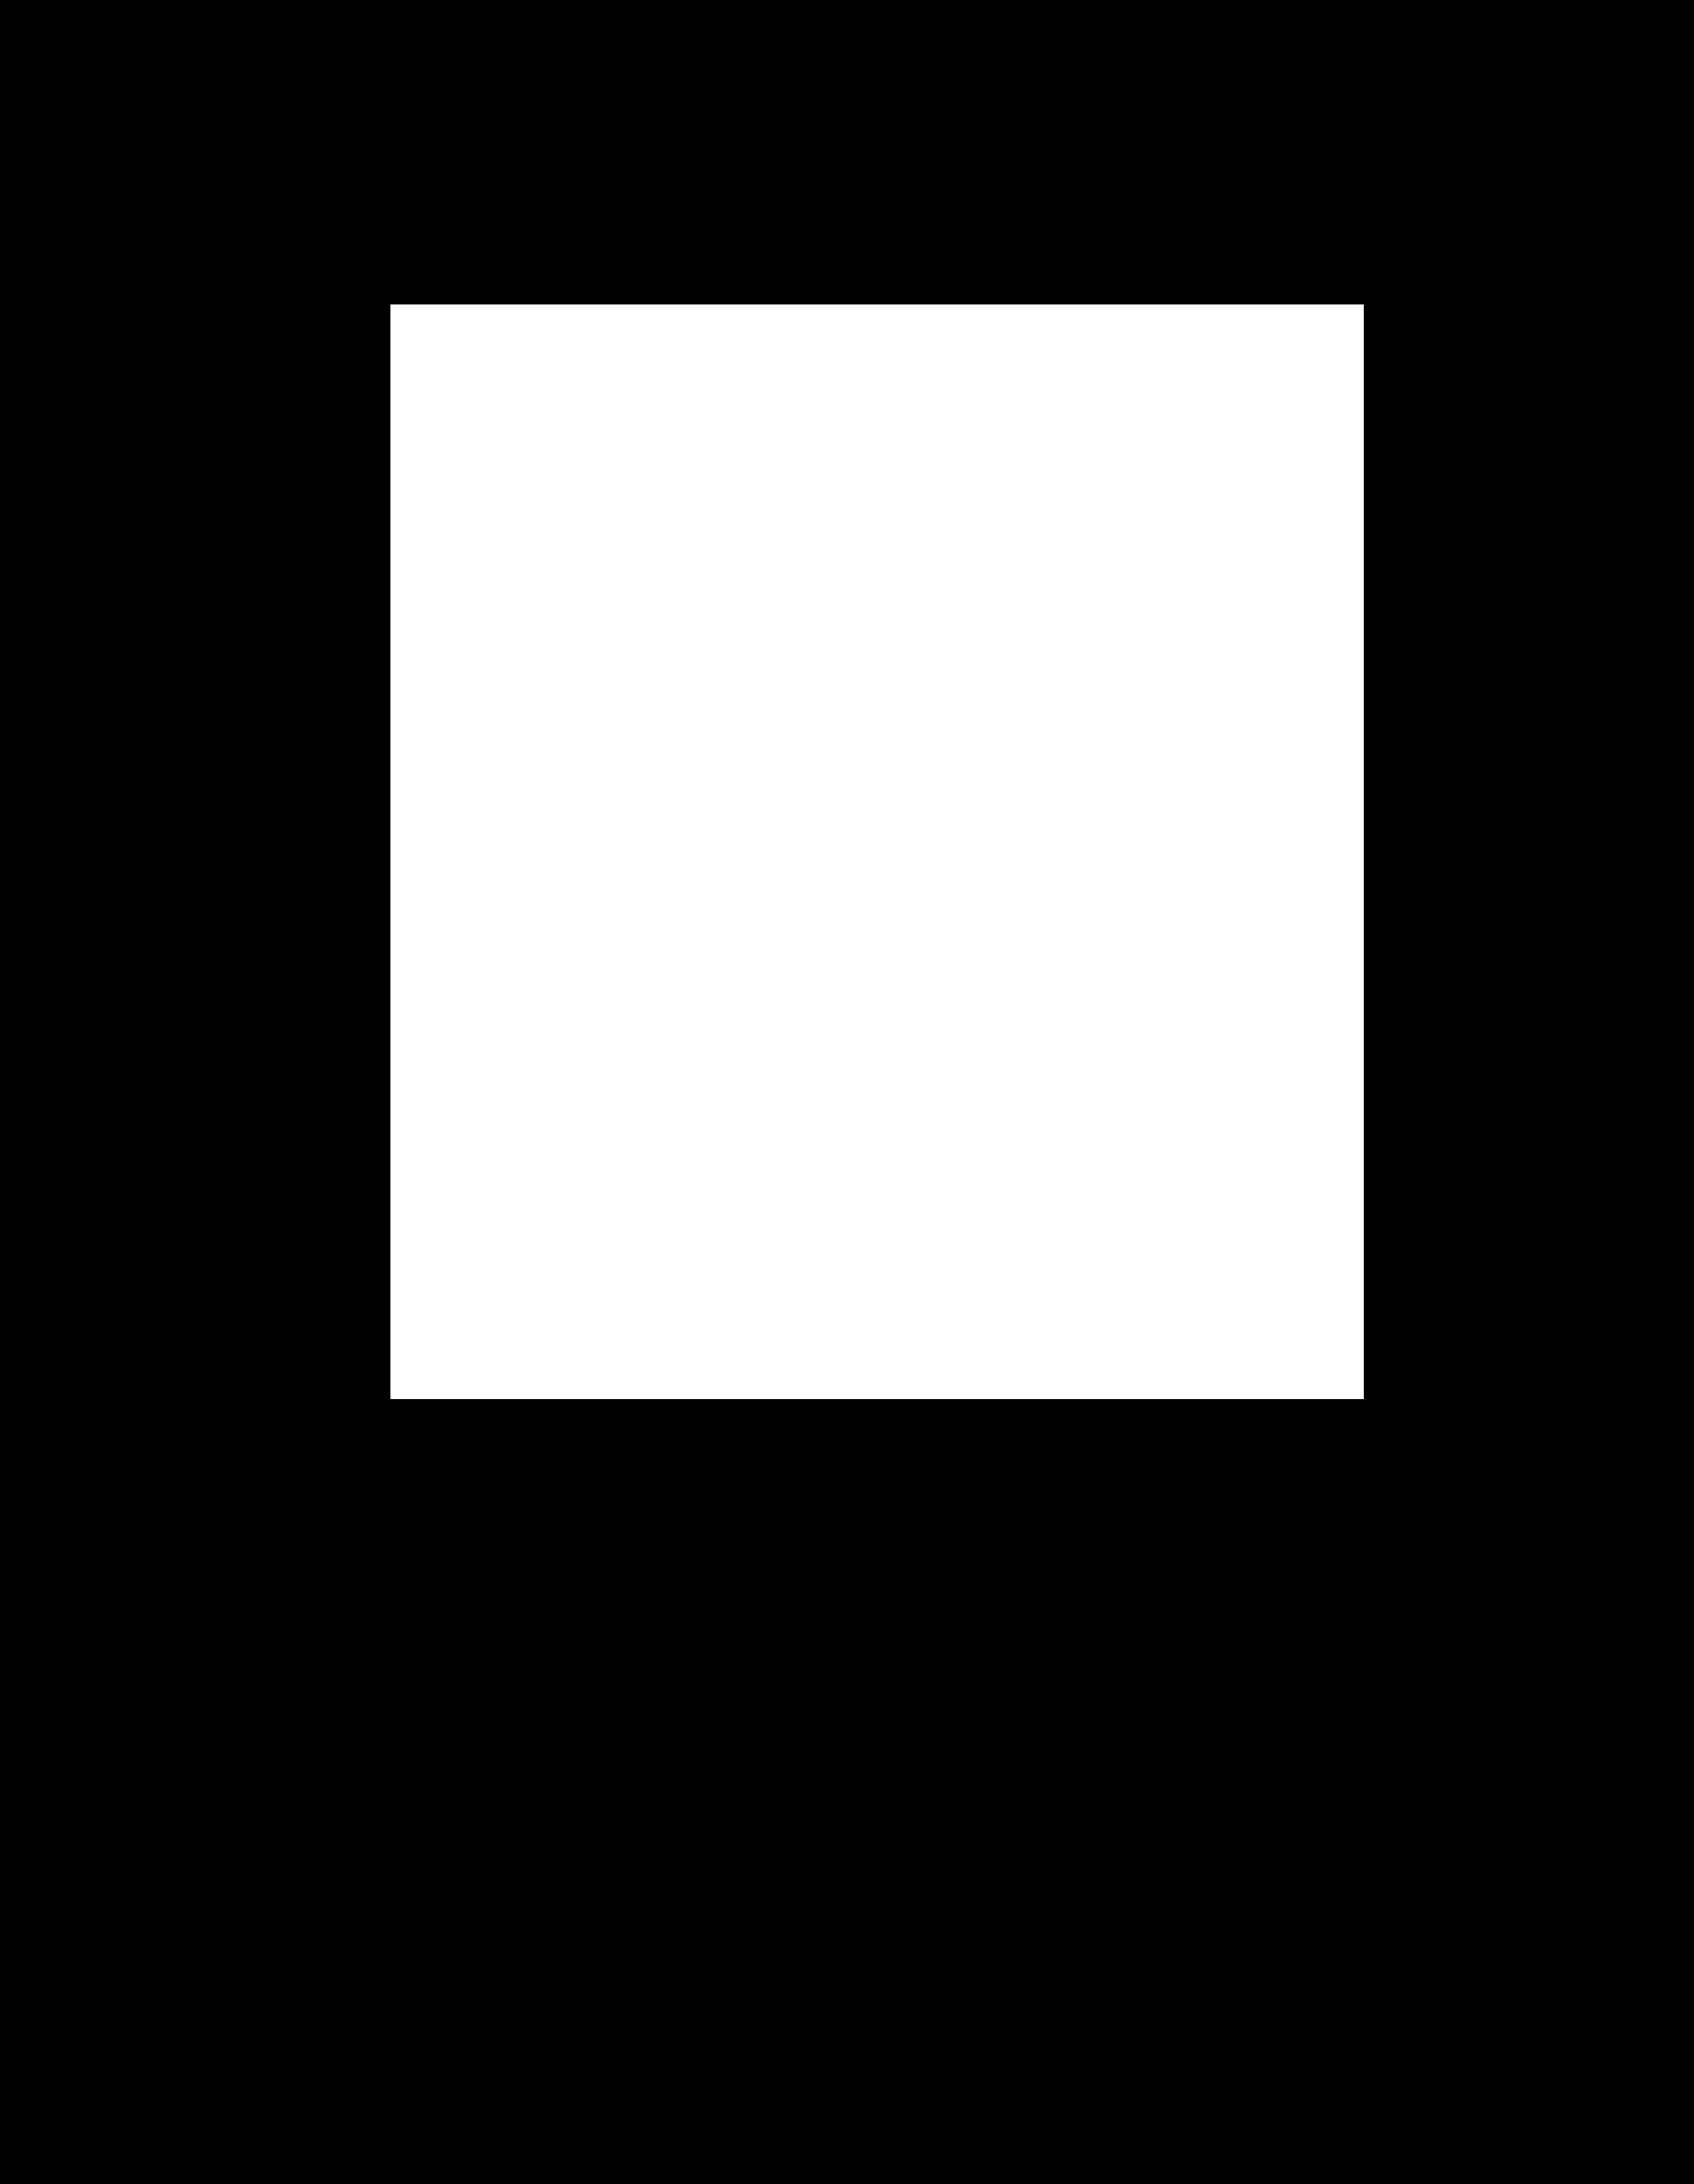table: (390, 305, 1363, 1399)
